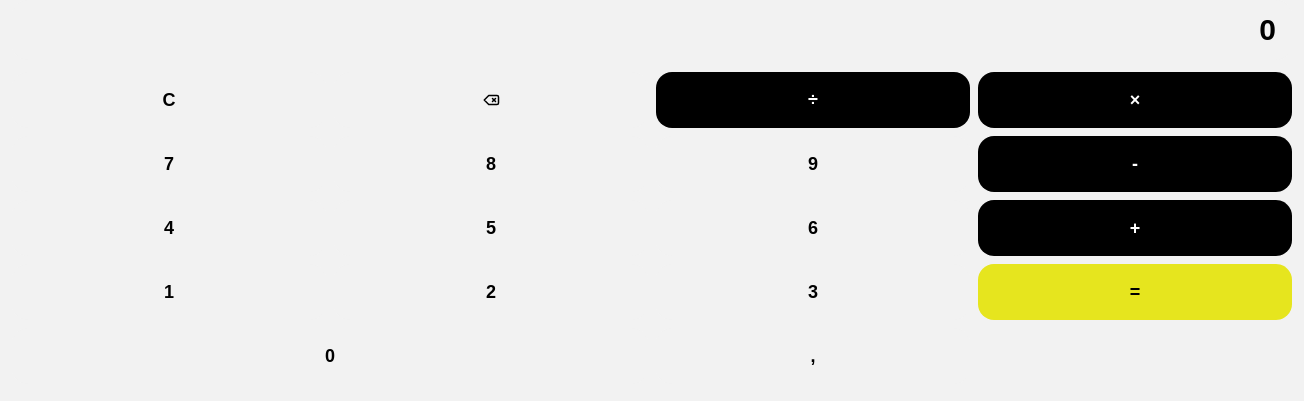
Test case: Calculator › division by zero shows an error instead of crashing
Click the button "5".
click(491, 228)  # box top-left (334, 200), bottom-right (648, 256)
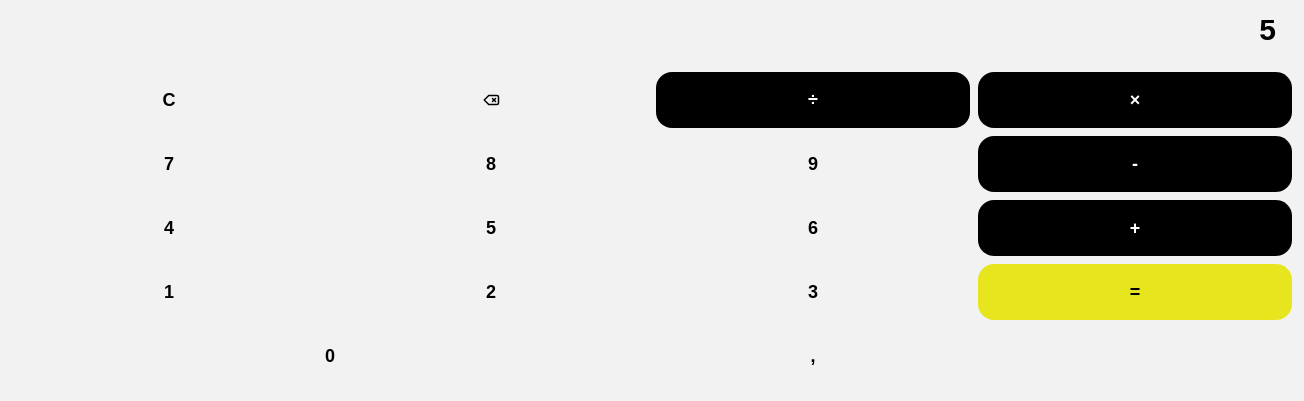
Click the button named "Operador ÷".
click(813, 100)  # box top-left (656, 72), bottom-right (970, 128)
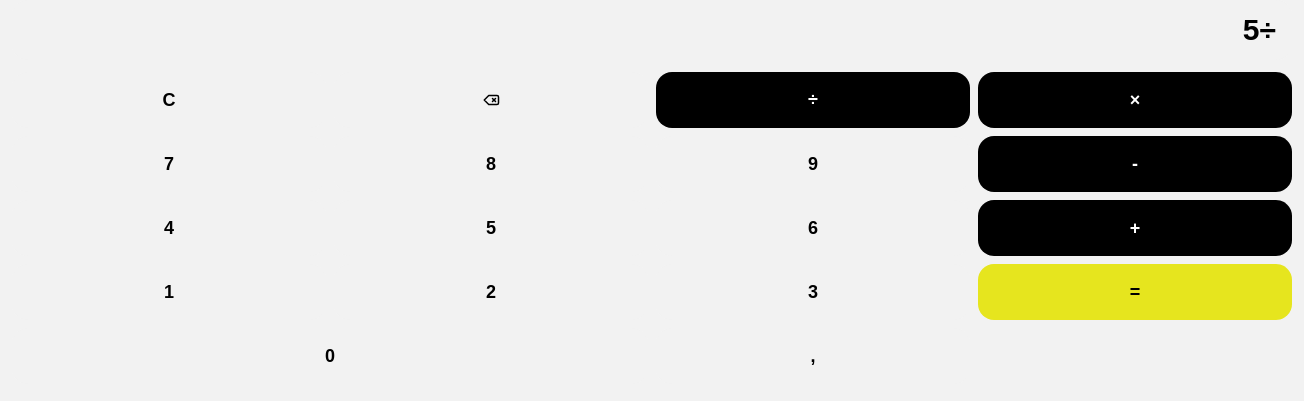
Click the button "0".
click(330, 356)  # box top-left (12, 328), bottom-right (648, 384)
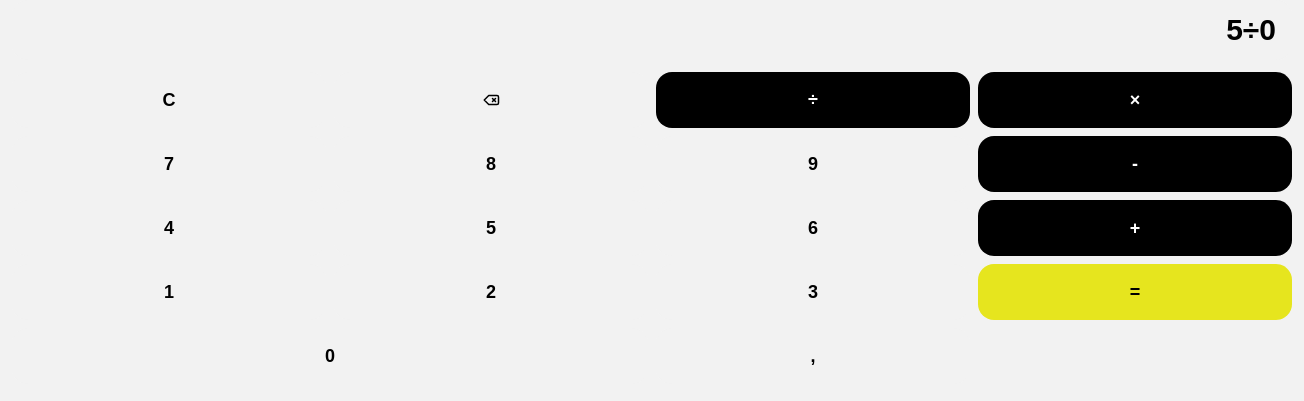
Click the button named "Igual".
click(1135, 292)  # box top-left (978, 264), bottom-right (1292, 320)
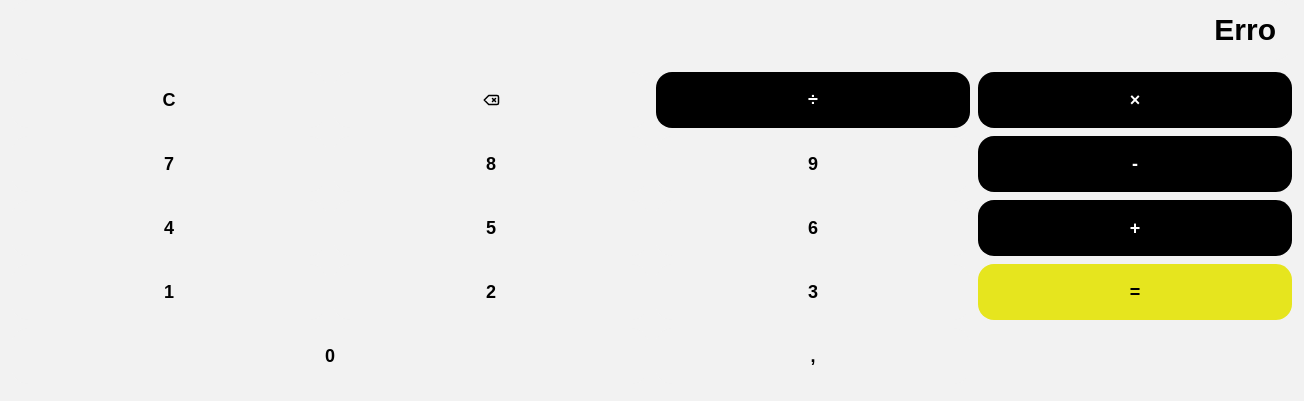
Expected: the text "Erro" is shown, top-left (12, 0), bottom-right (1292, 60)
